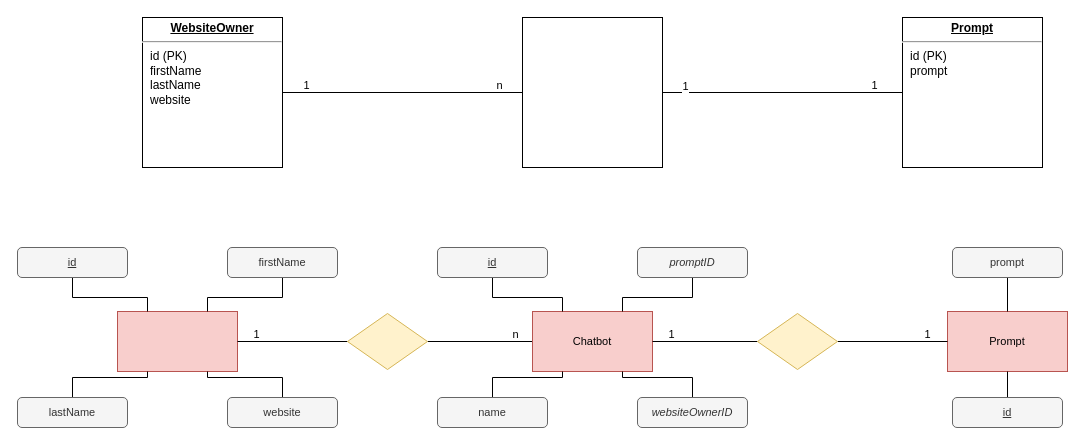
The diagram is 1085 pixels wide and 445 high, and some of its shapes have lost their labels. The shapes that lost their labels are listed below. From the top down, each one's centre as x and y in pixels, then its label:
At point 592,92: "Chatbot id (PK) name promptID (FK) websiteOwnerID (FK)".
At point 177,341: "WebsiteOwner".
At point 387,341: "besitzt".
At point 797,341: "hat".
